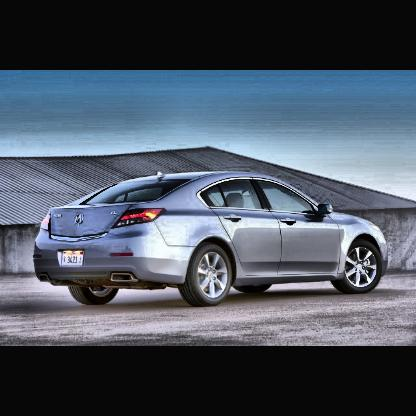Acura TL Sedan 2012: (31, 170, 389, 309)
